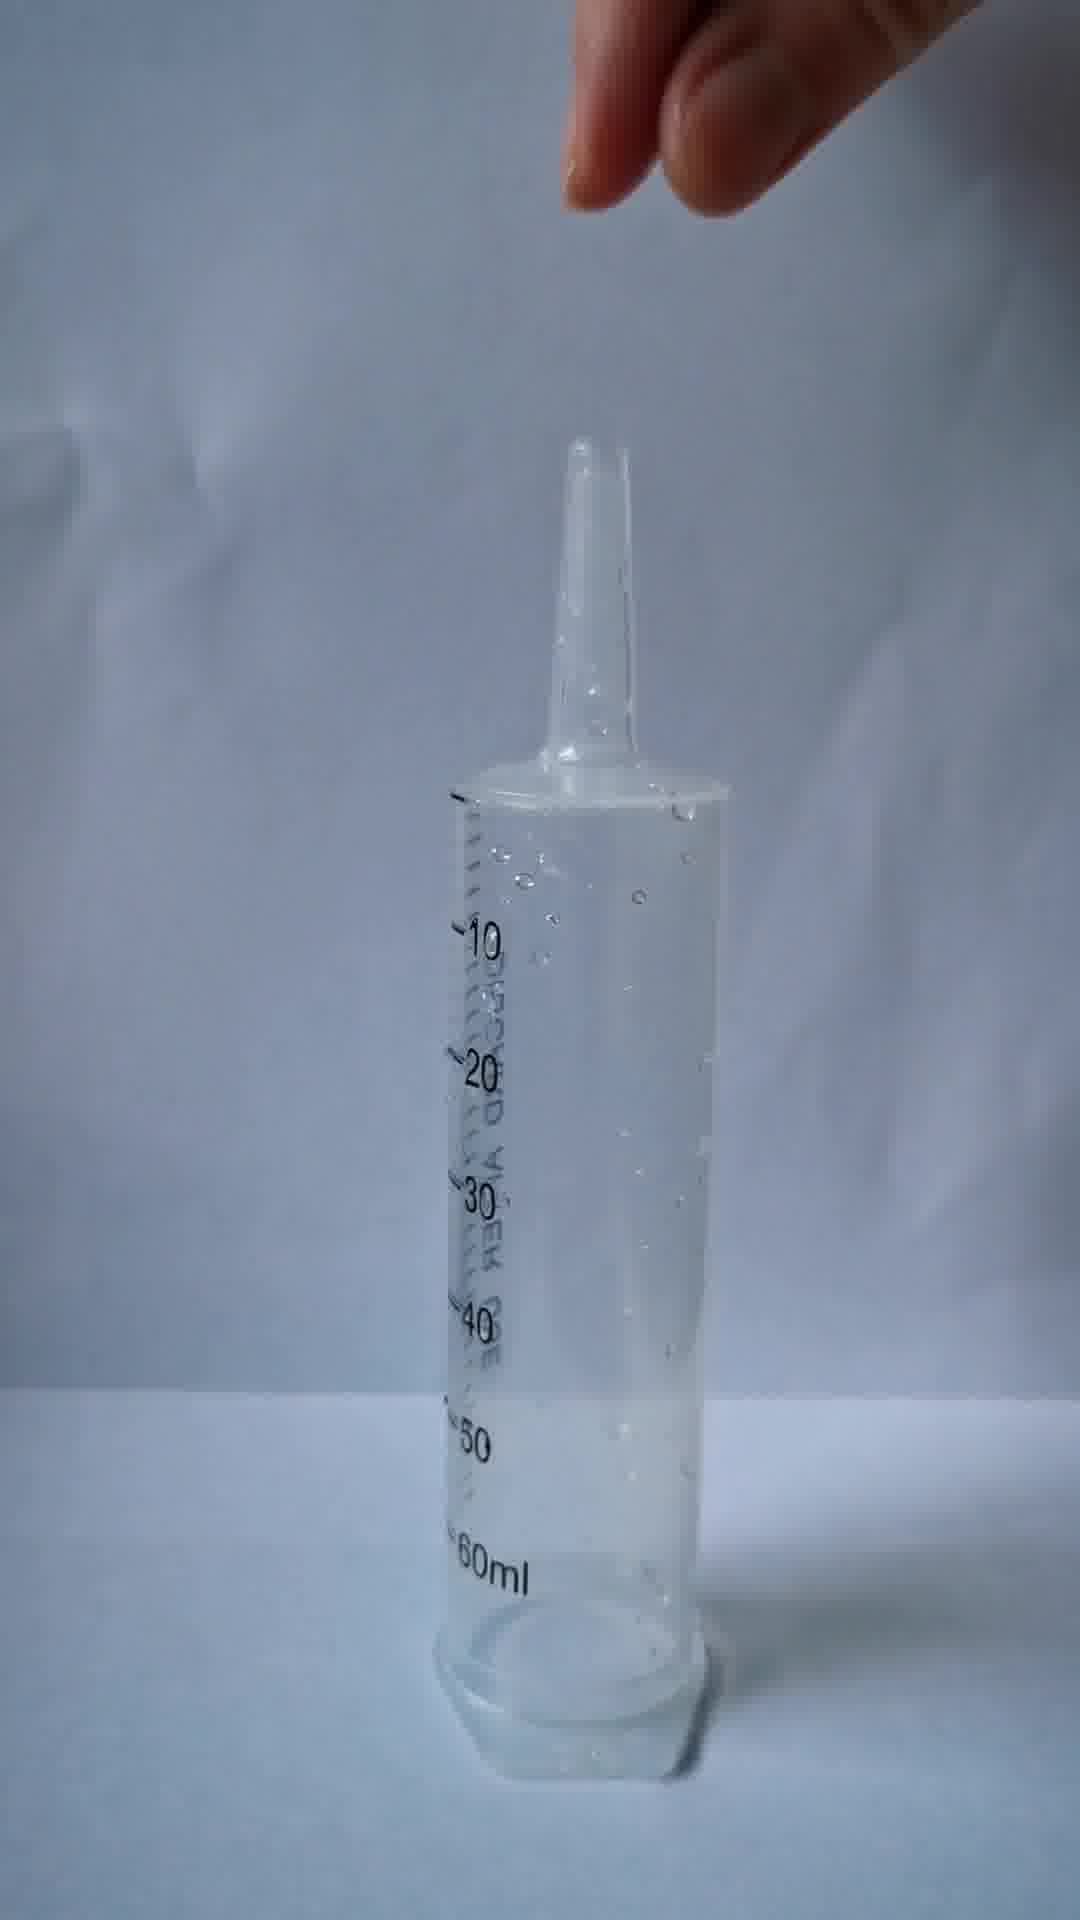syringe: (425, 423, 729, 1792)
